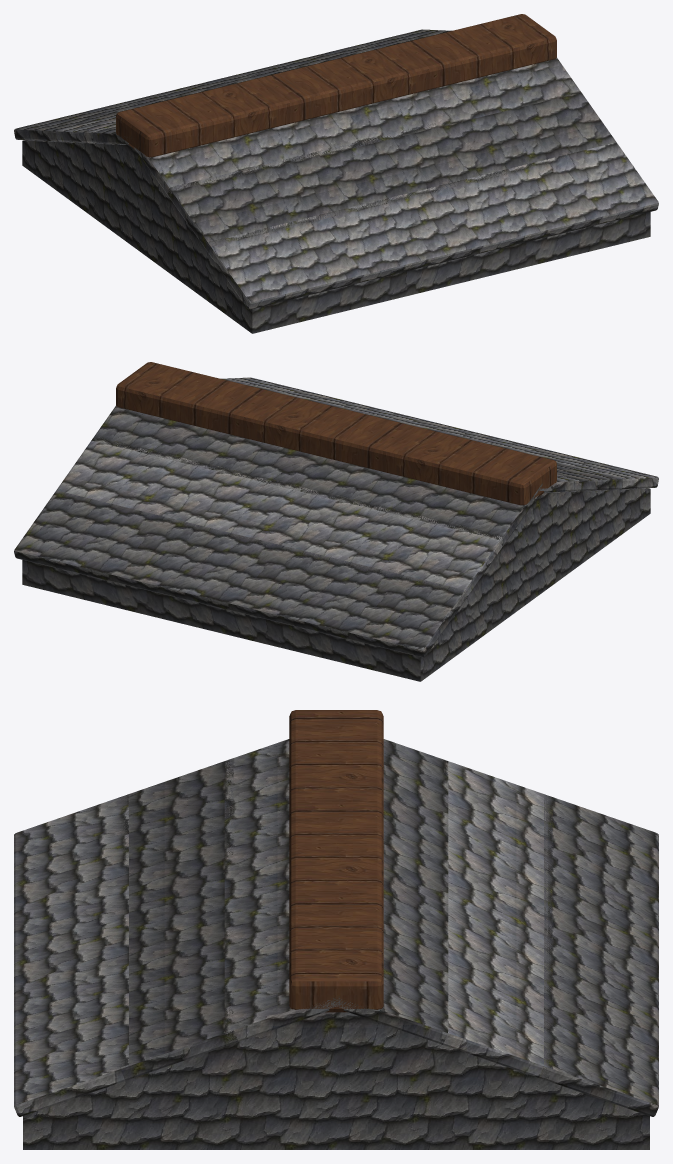
The model's file is roof_26_ridge__cut_stone.glb.
3 renders of one model, top to bottom at view 1: azimuth 30°, elevation 25°; view 2: azimuth 150°, elevation 25°; view 3: azimuth 270°, elevation 25°, orthographic. The views are drawn at different scales.
Parts seen in each view (by area): view 1: model; view 2: model; view 3: model.
Part boxes in pixels (x1=…): model: x1=14, y1=14, x2=658, y2=333; model: x1=14, y1=362, x2=658, y2=681; model: x1=14, y1=710, x2=658, y2=1149.
Bounding box in the file's own units: 2.06 × 0.61 × 2.06.
Materials: 4 (4 with a texture image).
